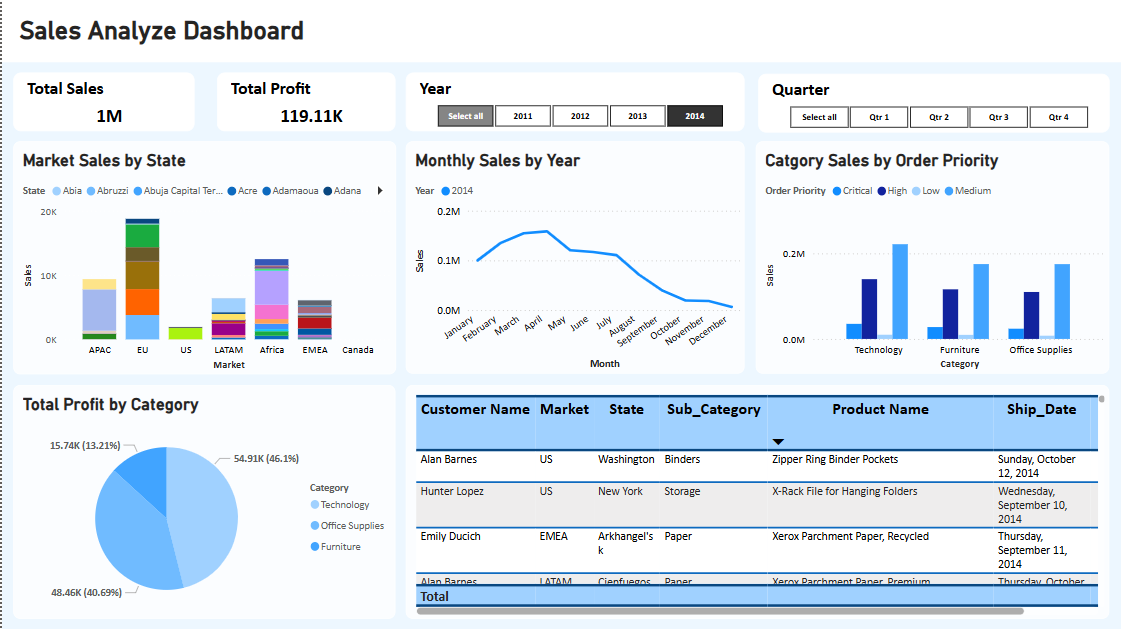

This screenshot's page, from the dashboard's own definition file:
{"tool":"powerbi","page":{"name":"SalesAnalysis","canvas":[1280,720],"ordinal":0},"visuals":[{"type":"card","title":"Total Sales","fields":{"Values":["SuperStoreOrders2.sales"]},"box":[12.9,82.9,207.1,67.1],"z":0},{"type":"card","title":"Total Profit","fields":{"Values":["SuperStoreOrders2.profit"]},"box":[245.7,82.9,204.3,67.1],"z":1000},{"type":"slicer","title":"Year","fields":{"Values":["SuperStoreOrders2.year"]},"box":[461.4,82.9,387.1,67.1],"z":2000},{"type":"tableEx","fields":{"Values":["SuperStoreOrders2.customer_name","SuperStoreOrders2.market","SuperStoreOrders2.state","SuperStoreOrders2.sub_category","SuperStoreOrders2.product_name","SuperStoreOrders2.ship_date","SuperStoreOrders2.sales"]},"box":[461.4,440,804.3,267.1],"z":3000},{"type":"columnChart","title":"Market Sales by State","fields":{"Y":["SuperStoreOrders2.sales"],"Category":["SuperStoreOrders2.market"],"Series":["SuperStoreOrders2.state"]},"box":[12.3,161.9,437.7,266.2],"z":4000},{"type":"lineChart","title":"Monthly Sales by Year","fields":{"Y":["SuperStoreOrders2.sales"],"Series":["SuperStoreOrders2.order_date.Variation.Date Hierarchy.Year"],"Category":["SuperStoreOrders2.order_date.Variation.Date Hierarchy.Month"]},"box":[461.4,161.4,387.1,265.7],"z":5000},{"type":"slicer","title":"Quarter","fields":{"Values":["SuperStoreOrders2.order_date.Variation.Date Hierarchy.Quarter"]},"box":[864.3,84.3,401.4,67.1],"z":6000},{"type":"clusteredColumnChart","title":"Catgory Sales by Order Priority","fields":{"Category":["SuperStoreOrders2.category"],"Y":["SuperStoreOrders2.sales"],"Series":["SuperStoreOrders2.order_priority"]},"box":[861.4,161.4,404.3,265.7],"z":7000},{"type":"pieChart","title":"Total Profit by Category","fields":{"Category":["SuperStoreOrders2.category"],"Y":["SuperStoreOrders2.profit"]},"box":[12.9,440,437.1,267.1],"z":8000},{"type":"textbox","box":[0,0,1280,71.4],"z":9000}]}

Visuals, with their boxes in screenshot pixels (x1, y1, x2, y2), scaled from the page's 1280x720 canvas onto the 1121x629 screenshot:
"Total Sales" card: 11/72/193/131
"Total Profit" card: 215/72/394/131
"Year" slicer: 404/72/743/131
tableEx - SuperStoreOrders2.customer_name x SuperStoreOrders2.market: 404/384/1108/618
"Market Sales by State" columnChart: 11/141/394/374
"Monthly Sales by Year" lineChart: 404/141/743/373
"Quarter" slicer: 757/74/1108/132
"Catgory Sales by Order Priority" clusteredColumnChart: 754/141/1108/373
"Total Profit by Category" pieChart: 11/384/394/618
textbox: 0/0/1120/62
